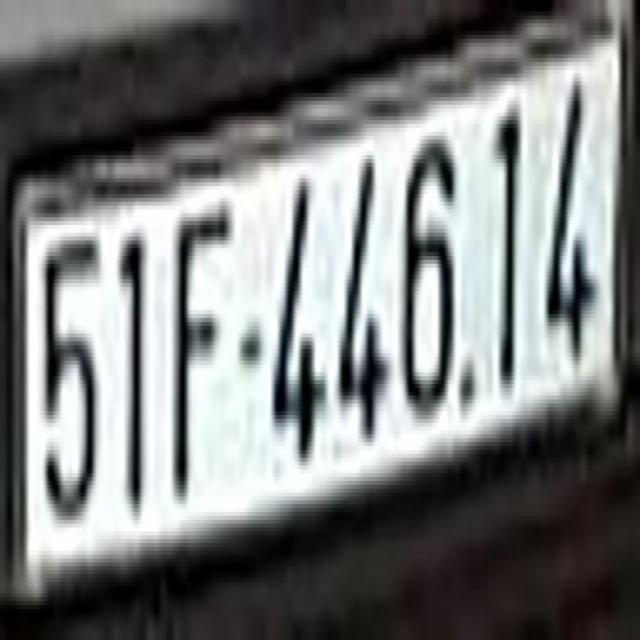1: (113, 221, 146, 528), (496, 108, 526, 388)
4: (336, 151, 392, 458), (545, 78, 602, 364), (274, 182, 323, 481)
5: (41, 217, 98, 535)
6: (406, 124, 456, 423)
F: (170, 194, 233, 493)
